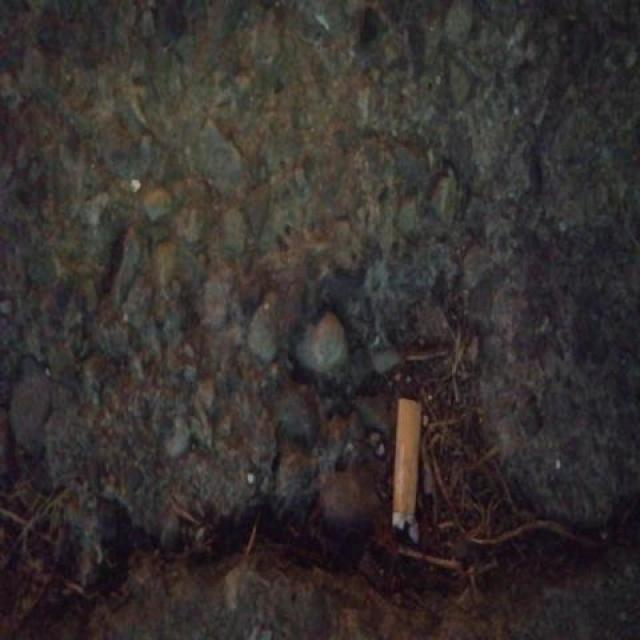non-organic waste: (385, 389, 430, 547)
